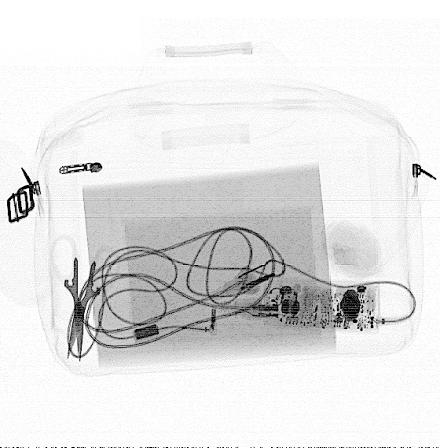Scissors: (50, 232, 122, 369)
